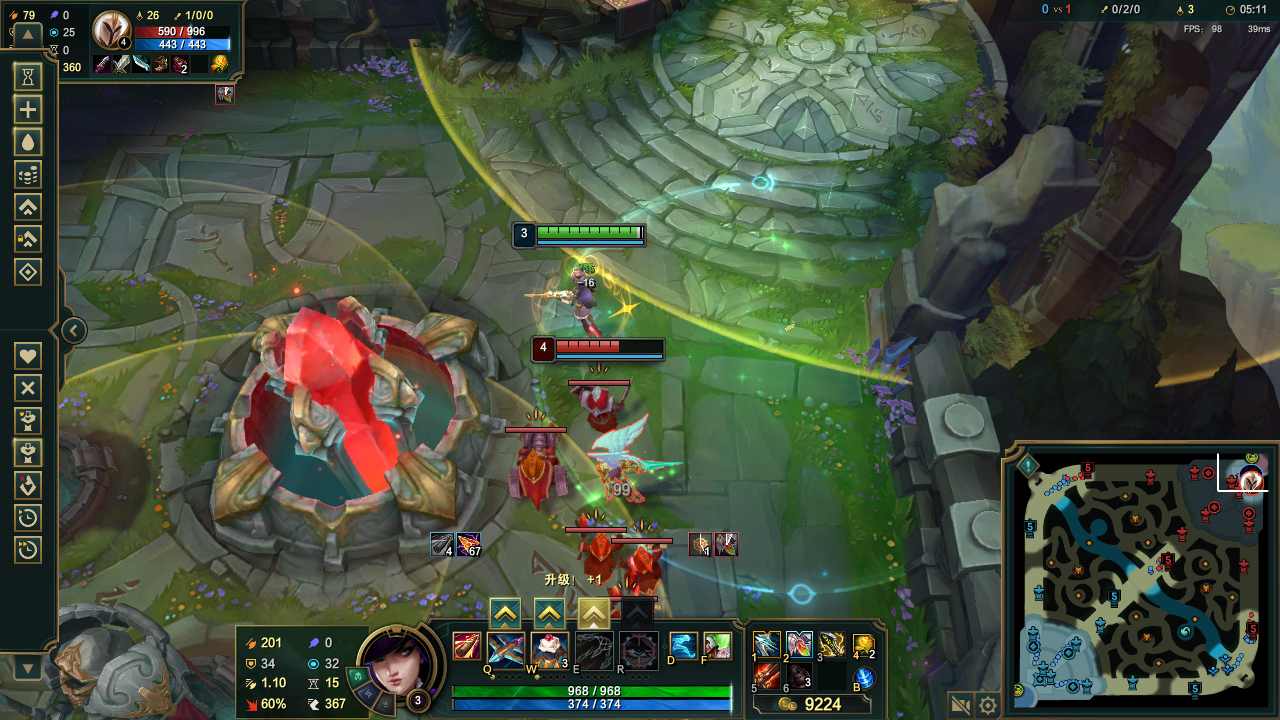DFDSJ: (183, 261, 476, 536)
DFYX: (554, 340, 664, 353)
